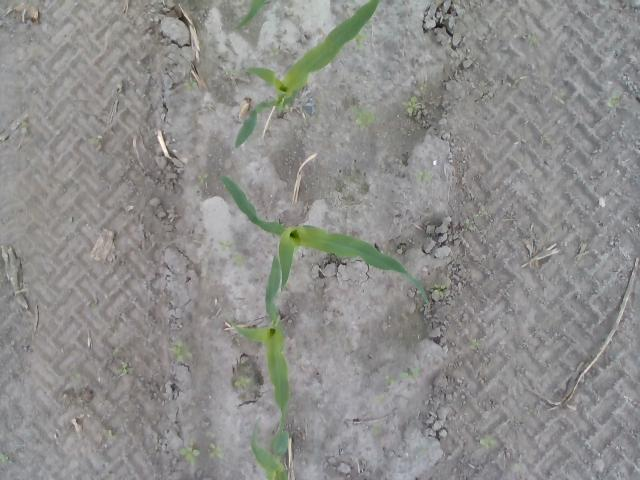Maize: (219, 174, 432, 306), (226, 0, 380, 151), (230, 250, 290, 433), (248, 429, 290, 480)
Weeds: (166, 333, 192, 364), (350, 106, 377, 129), (178, 446, 202, 464), (398, 367, 424, 381), (208, 441, 225, 461), (405, 96, 419, 113), (480, 436, 498, 448), (232, 376, 250, 388), (416, 171, 432, 184), (182, 79, 198, 92), (231, 251, 244, 264), (197, 172, 210, 184), (432, 284, 446, 295), (352, 34, 366, 44), (470, 338, 480, 350), (608, 95, 618, 106), (0, 454, 9, 463), (120, 367, 128, 374)
